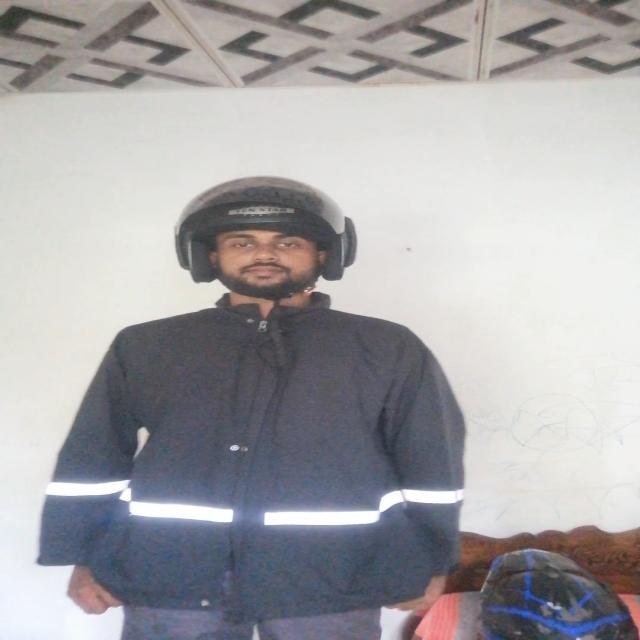Helmet_Wearer: (143, 179, 364, 315)
Jacket_Wearer: (61, 294, 489, 610)
Person: (50, 172, 462, 640)
